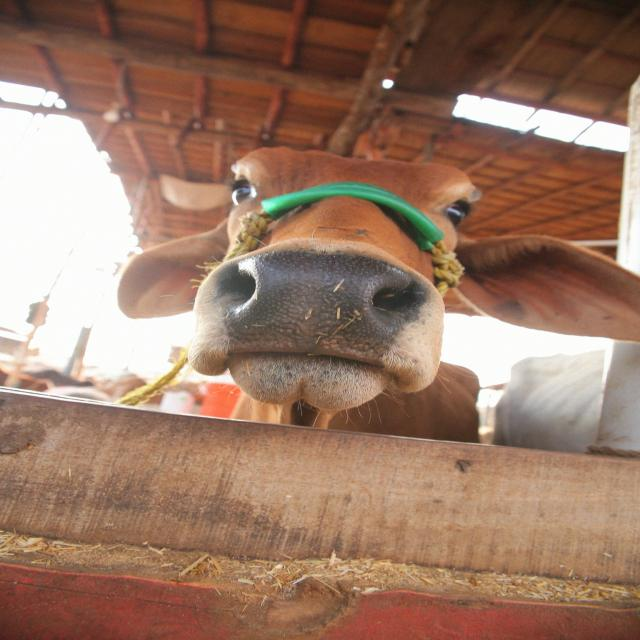muzzles: (204, 245, 435, 377)
